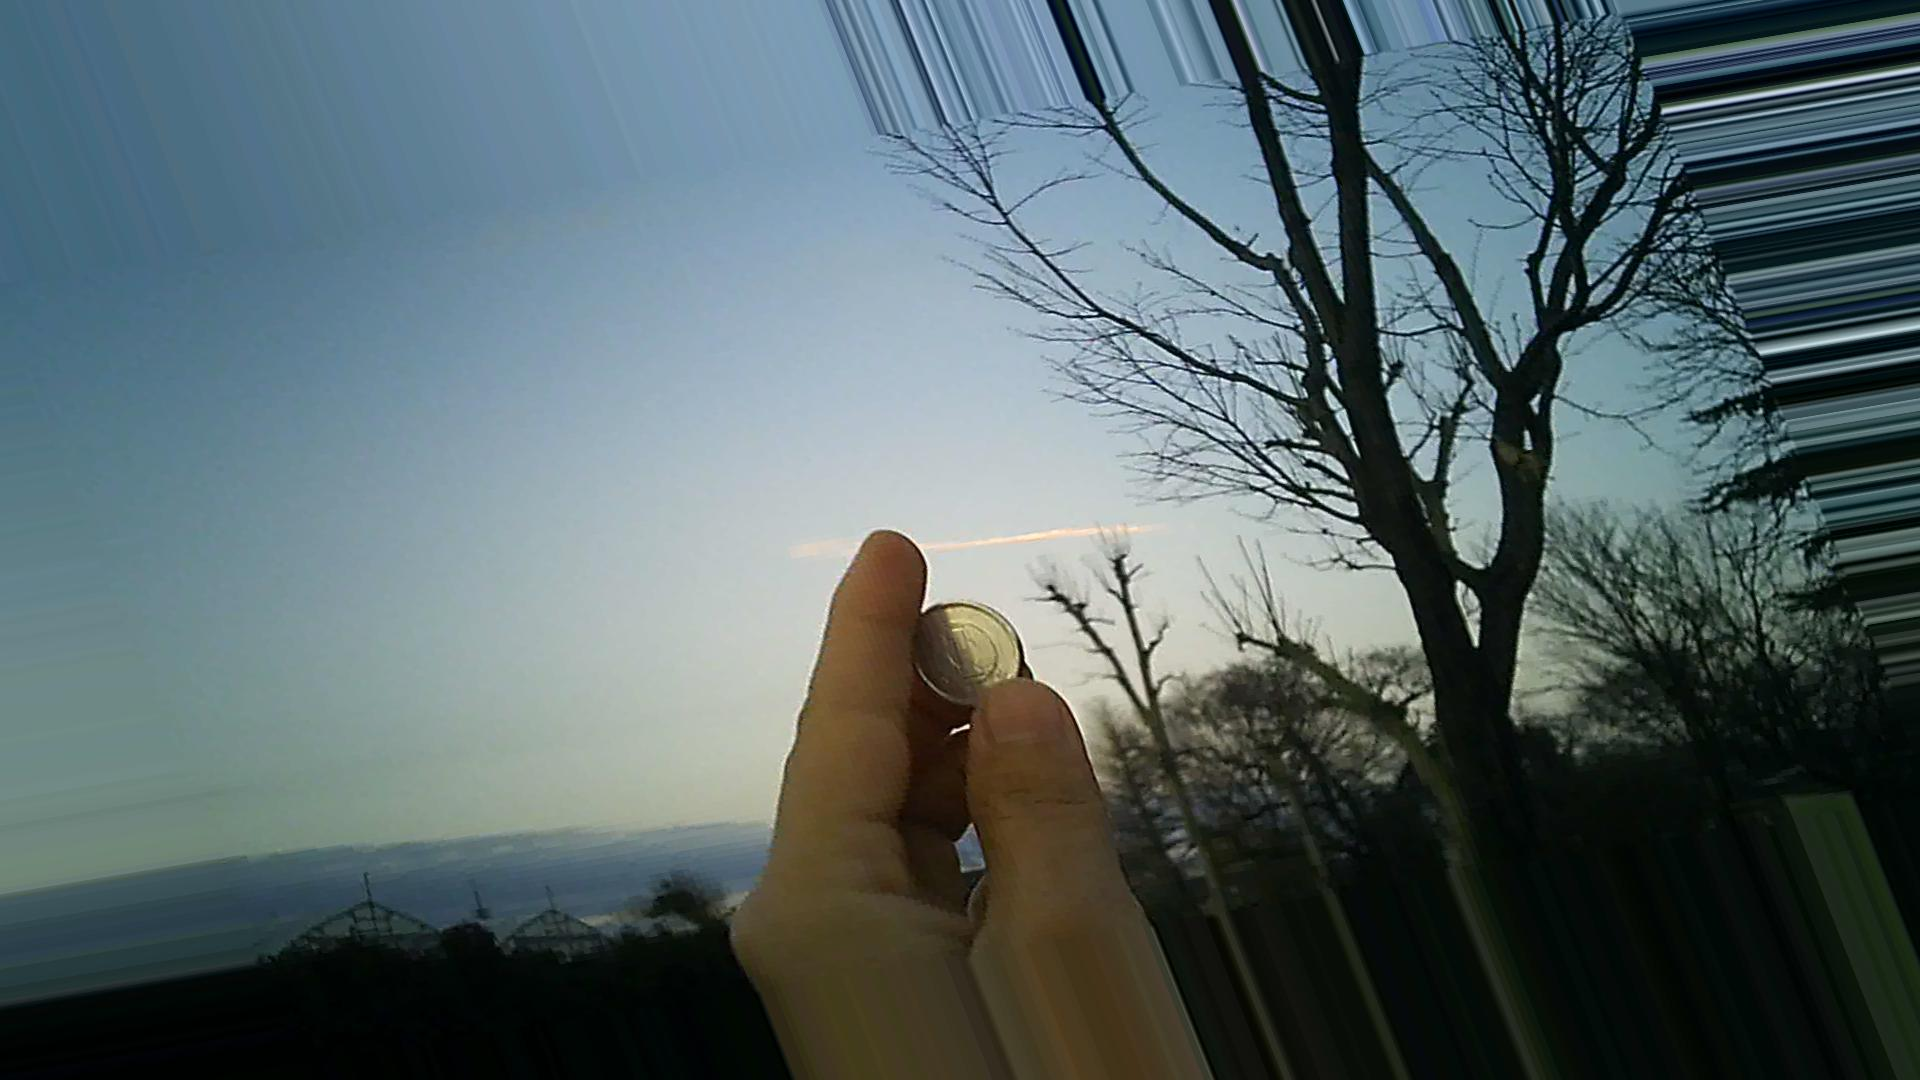1 Yen: (901, 592, 1036, 719)
